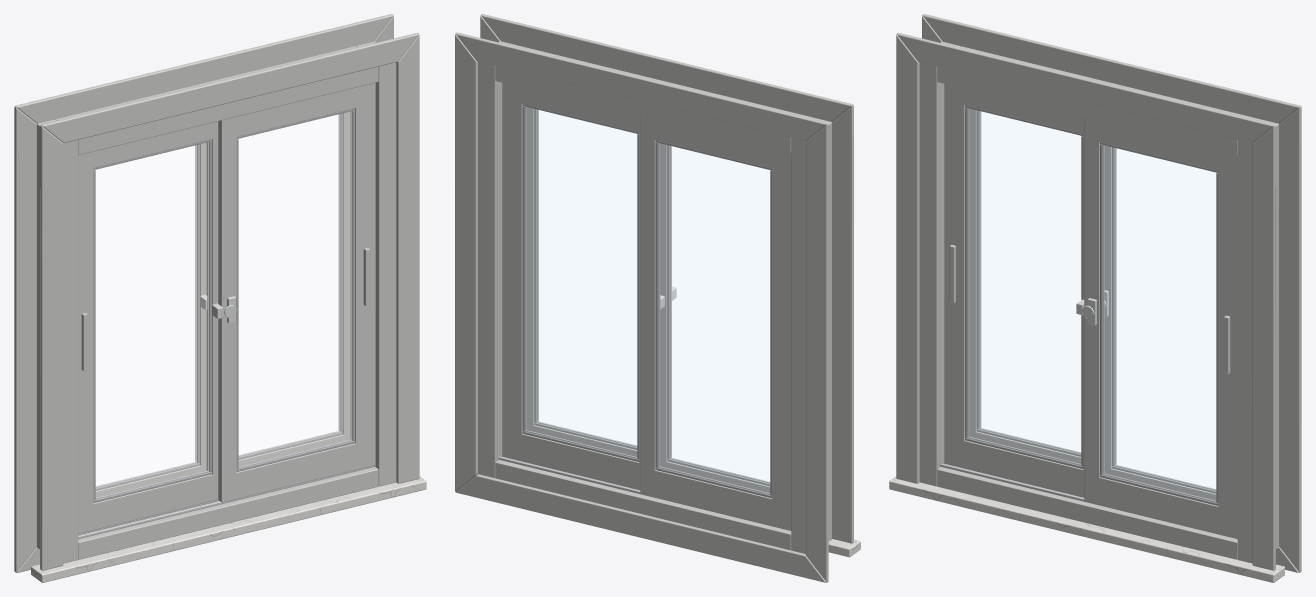
Rendered from window_inner.glb.
3 renders of one model, left to right at view 1: azimuth 30°, elevation 25°; view 2: azimuth 150°, elevation 25°; view 3: azimuth 330°, elevation 25°, orthographic.
Visible parts, largest first — view 1: window_inner_glass, window_inner_casing, window_inner_frame, window_inner_sash_inner_r, window_inner_sash_inner_l, window_inner_sash_outer_r, window_inner_sill, window_inner_sash_outer_l, window_inner_hardware; view 2: window_inner_glass, window_inner_casing, window_inner_frame, window_inner_sash_outer_l, window_inner_sash_outer_r, window_inner_sash_inner_r, window_inner_sash_inner_l; view 3: window_inner_glass, window_inner_casing, window_inner_frame, window_inner_sash_inner_r, window_inner_sash_inner_l, window_inner_sill, window_inner_sash_outer_l, window_inner_sash_outer_r, window_inner_hardware.
Boxes of the visible parts, x1=… form: window_inner_glass: x1=95, y1=111, x2=351, y2=498; window_inner_casing: x1=14, y1=14, x2=419, y2=572; window_inner_frame: x1=36, y1=41, x2=396, y2=563; window_inner_sash_inner_r: x1=218, y1=83, x2=375, y2=502; window_inner_sash_inner_l: x1=78, y1=121, x2=218, y2=533; window_inner_sash_outer_r: x1=206, y1=111, x2=350, y2=470; window_inner_sill: x1=31, y1=476, x2=426, y2=582; window_inner_sash_outer_l: x1=95, y1=143, x2=206, y2=497; window_inner_hardware: x1=81, y1=247, x2=370, y2=371; window_inner_glass: x1=526, y1=107, x2=769, y2=494; window_inner_casing: x1=455, y1=14, x2=853, y2=582; window_inner_frame: x1=477, y1=41, x2=831, y2=553; window_inner_sash_outer_l: x1=640, y1=116, x2=791, y2=529; window_inner_sash_outer_r: x1=502, y1=82, x2=640, y2=488; window_inner_sash_inner_r: x1=527, y1=107, x2=637, y2=456; window_inner_sash_inner_l: x1=660, y1=143, x2=770, y2=492; window_inner_glass: x1=968, y1=109, x2=1216, y2=501; window_inner_casing: x1=896, y1=14, x2=1301, y2=572; window_inner_frame: x1=919, y1=41, x2=1279, y2=563; window_inner_sash_inner_r: x1=1084, y1=118, x2=1237, y2=537; window_inner_sash_inner_l: x1=944, y1=84, x2=1084, y2=495; window_inner_sill: x1=889, y1=476, x2=1284, y2=582; window_inner_sash_outer_l: x1=969, y1=108, x2=1081, y2=463; window_inner_sash_outer_r: x1=1104, y1=145, x2=1216, y2=500; window_inner_hardware: x1=949, y1=245, x2=1230, y2=373.
Size of the model in its own units: 1.14 by 1.32 by 0.162.
6 materials, 1 textured.
